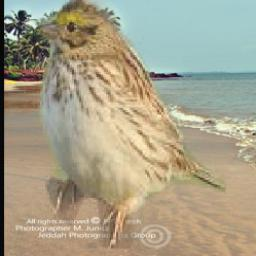Sparrow: (29, 0, 226, 249)
